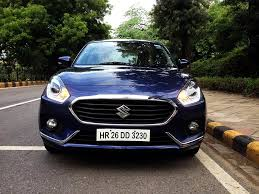Swift: (36, 38, 207, 158)
